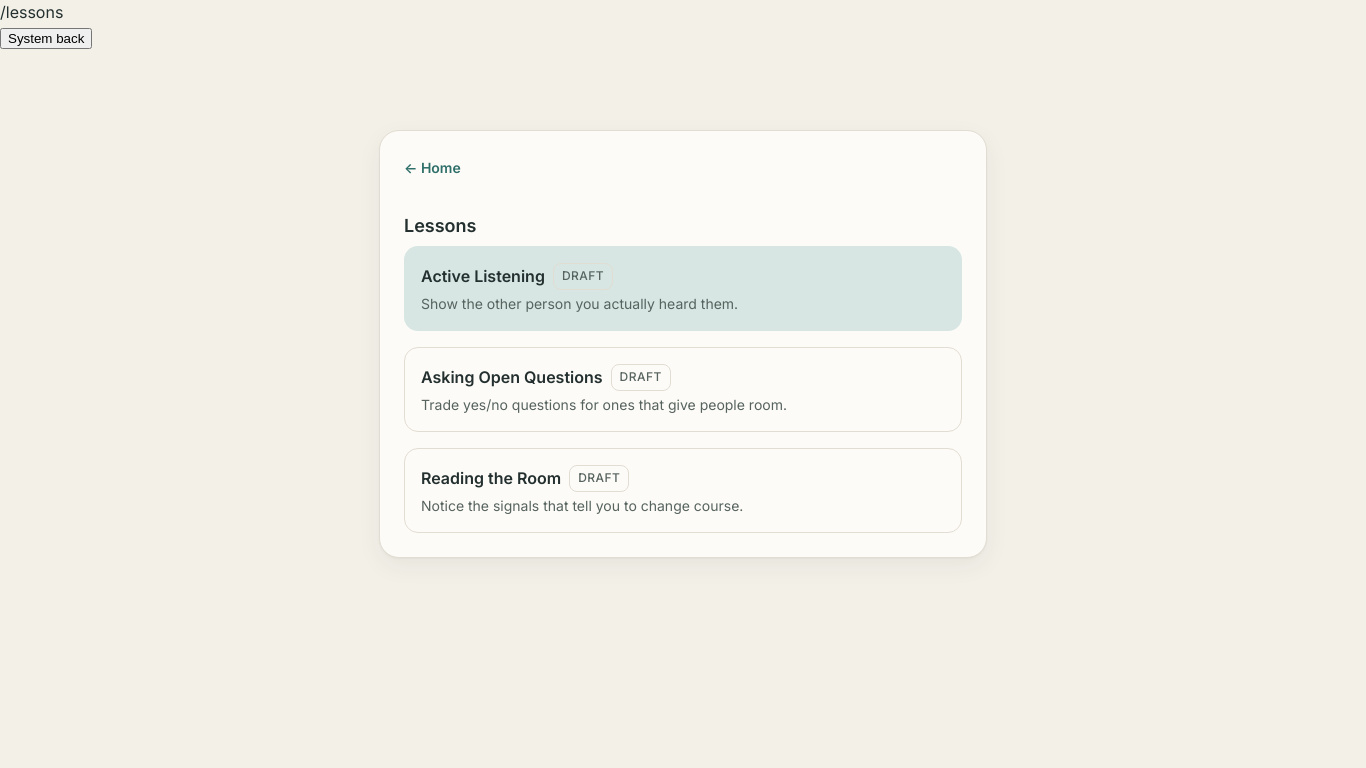
Test: Lesson flow › opens a Lesson from the Lessons list as a full-screen flow at its first step
Click the link "Active Listening": (483, 276) [404,246,962,331]
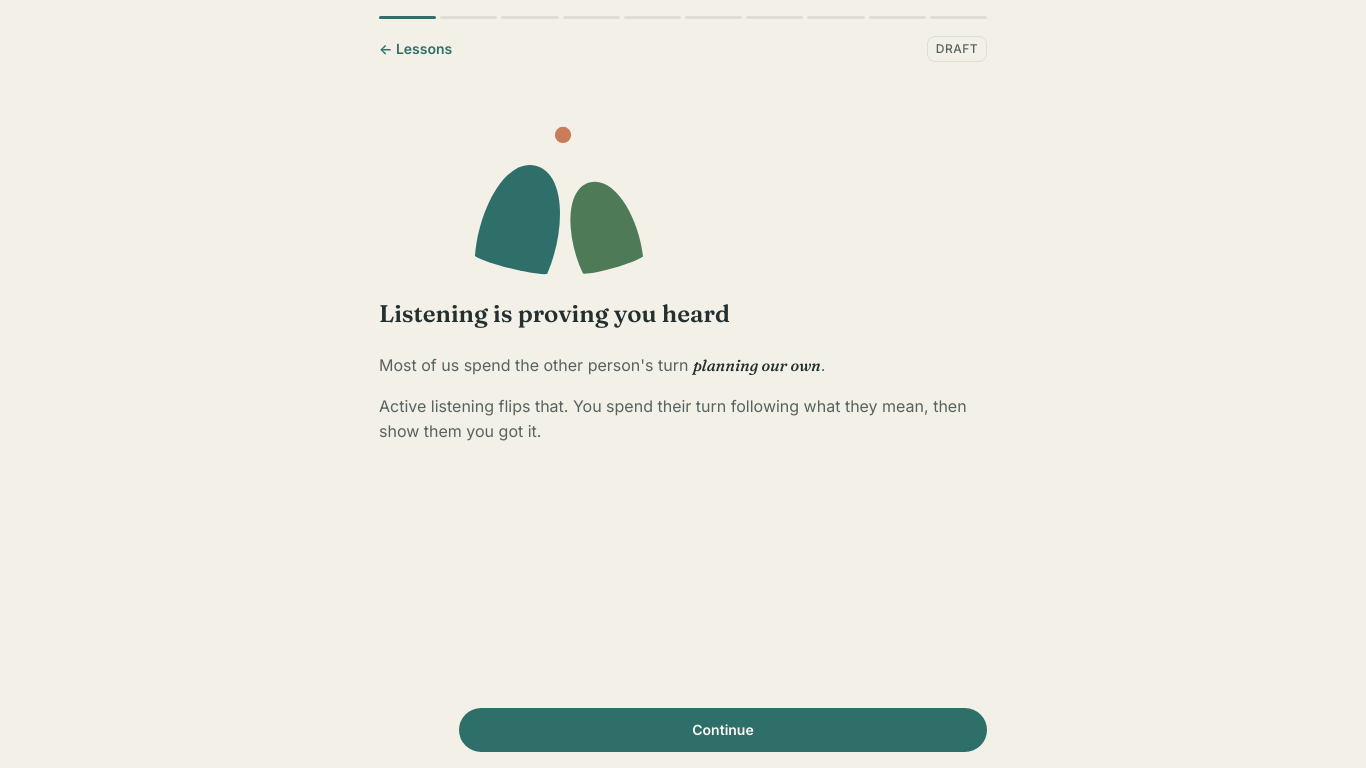
Expected: the text "Draft" is shown, [927,36,987,62]
Expected: the heading "Listening is proving you heard" is shown, [379,299,730,328]
Expected: the button "Continue" is enabled, [459,708,987,752]
